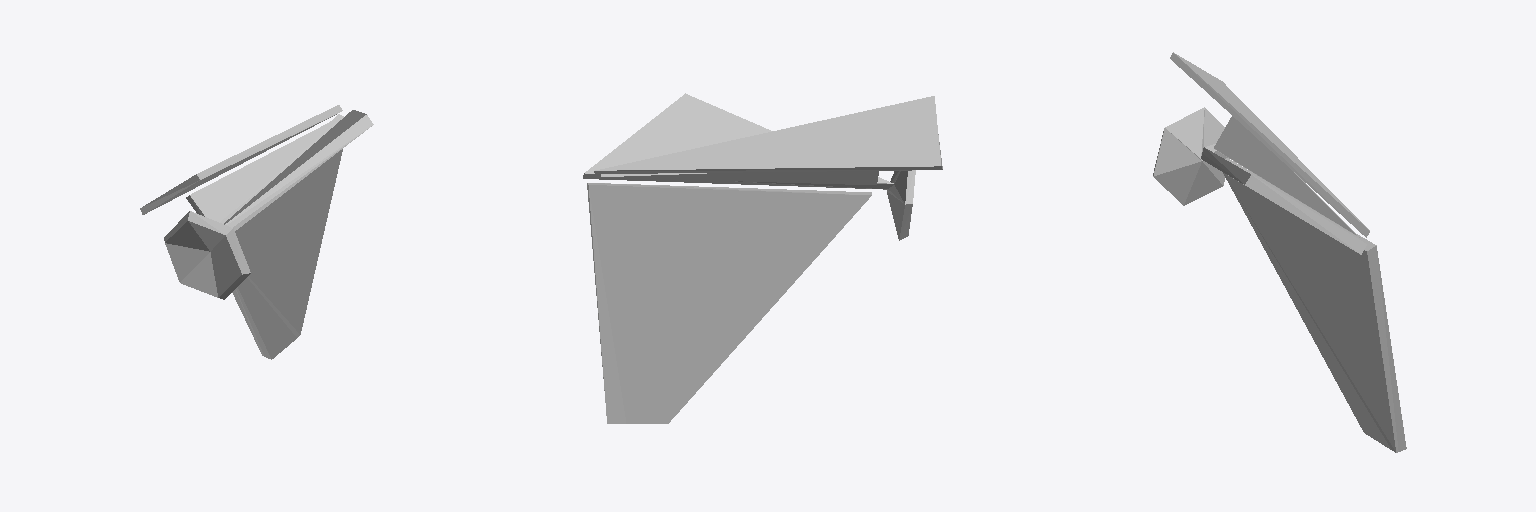
Rendered from homoplate_right.obj.
3 renders of one model, left to right at view 1: azimuth 30°, elevation 25°; view 2: azimuth 150°, elevation 25°; view 3: azimuth 270°, elevation 25°, orthographic.
Parts seen in each view (by area): view 1: RSCAPULA01_RSCAPULA01_WHITE_BONE; view 2: RSCAPULA01_RSCAPULA01_WHITE_BONE; view 3: RSCAPULA01_RSCAPULA01_WHITE_BONE.
Part boxes in pixels (x1,y1,x2,y2): RSCAPULA01_RSCAPULA01_WHITE_BONE: (140,105,373,359); RSCAPULA01_RSCAPULA01_WHITE_BONE: (583,93,942,423); RSCAPULA01_RSCAPULA01_WHITE_BONE: (1153,52,1406,452).
Size of the model in its own units: 5.7 by 5.59 by 4.32.